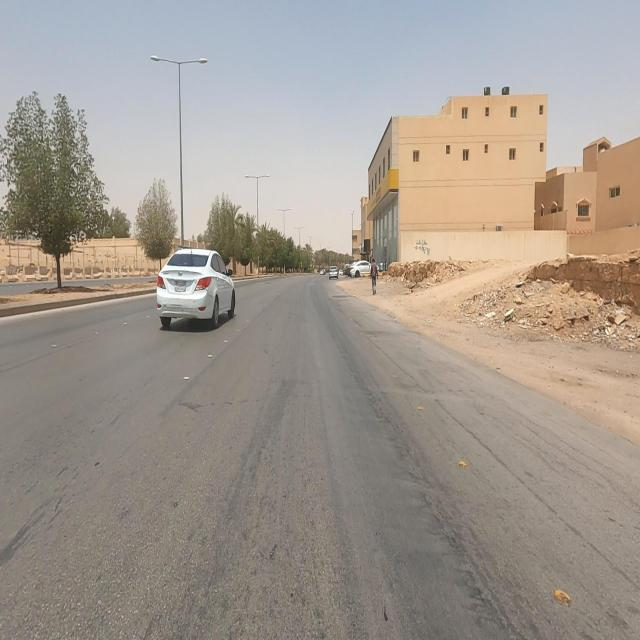Graffiti: (416, 239, 431, 257)
